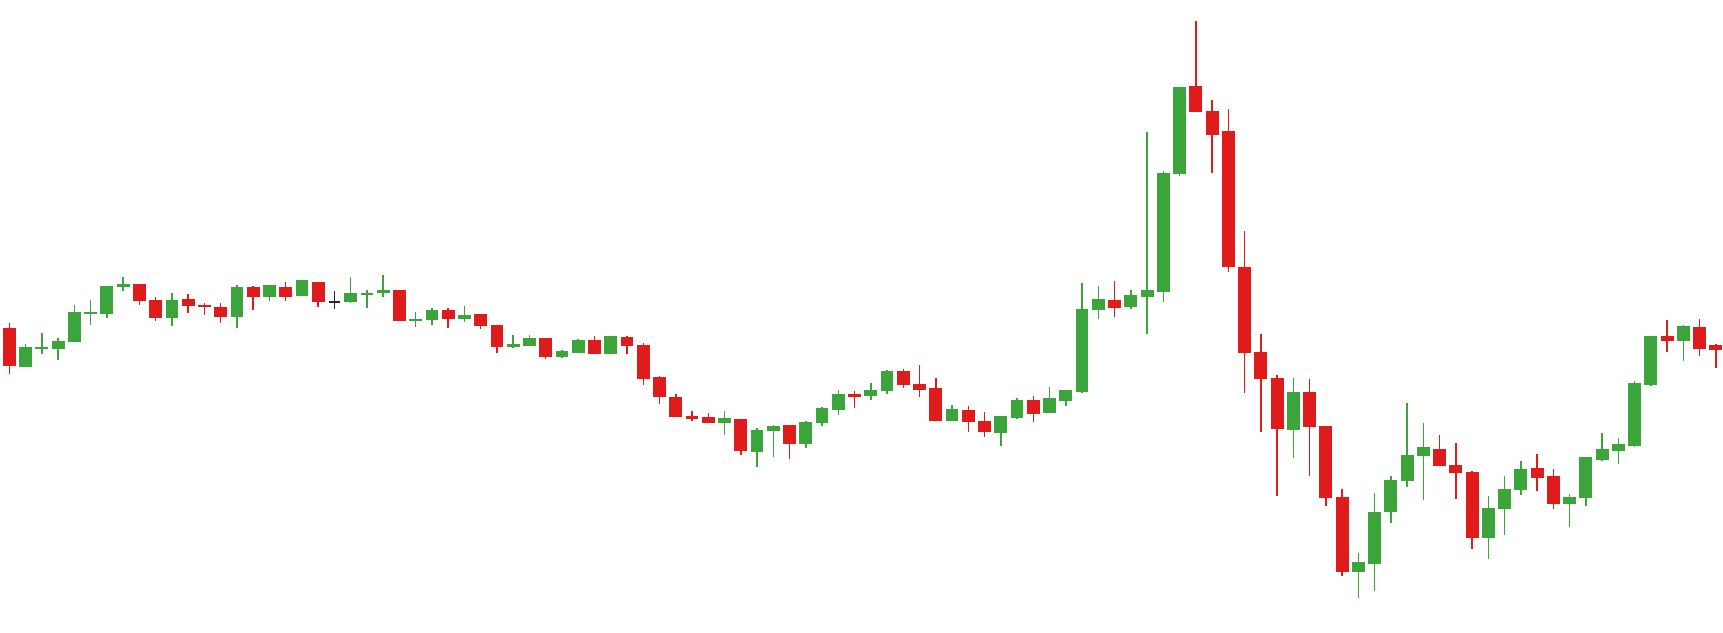buy: (1383, 449, 1498, 558)
